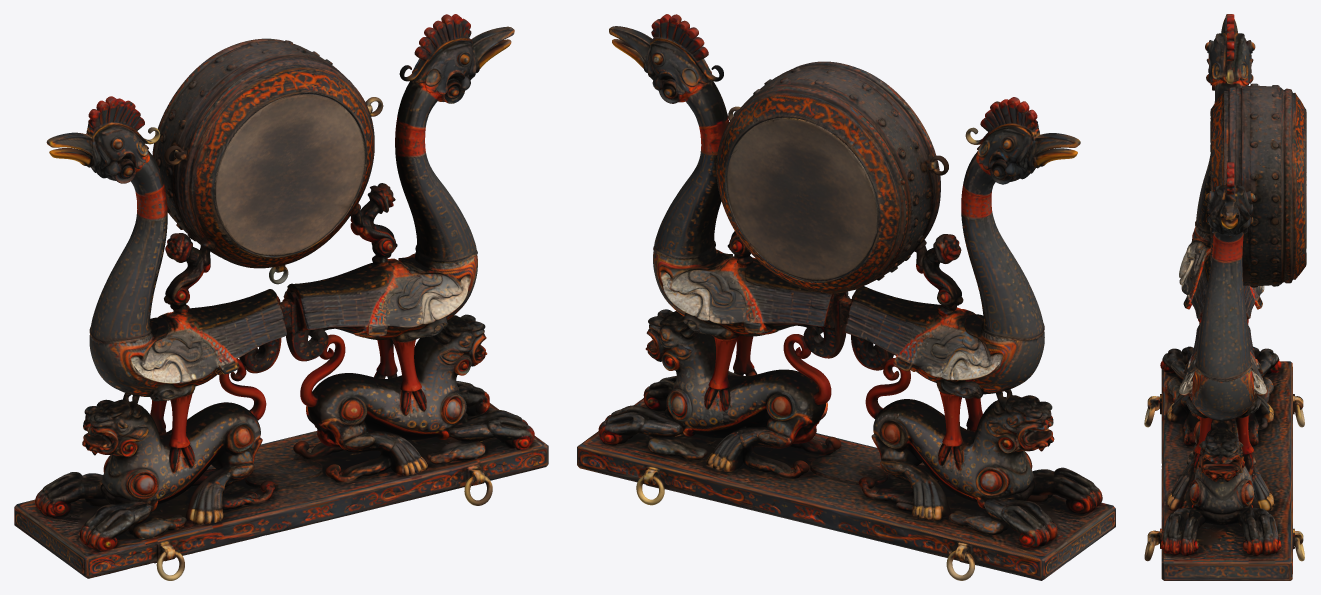
3 views of the same model, side by side, from view 1: azimuth 30°, elevation 25°; view 2: azimuth 150°, elevation 25°; view 3: azimuth 270°, elevation 25° (orthographic). The views are drawn at different scales.
Parts seen in each view (by area): view 1: node_0; view 2: node_0; view 3: node_0.
Boxes of the visible parts, x1,y1,x2,y2 form: node_0: (14,14,548,580); node_0: (577,14,1115,580); node_0: (1144,14,1306,580).
Bounding box in the file's own units: 0.8903 × 0.8259 × 0.3011.
1 material, 1 textured.
